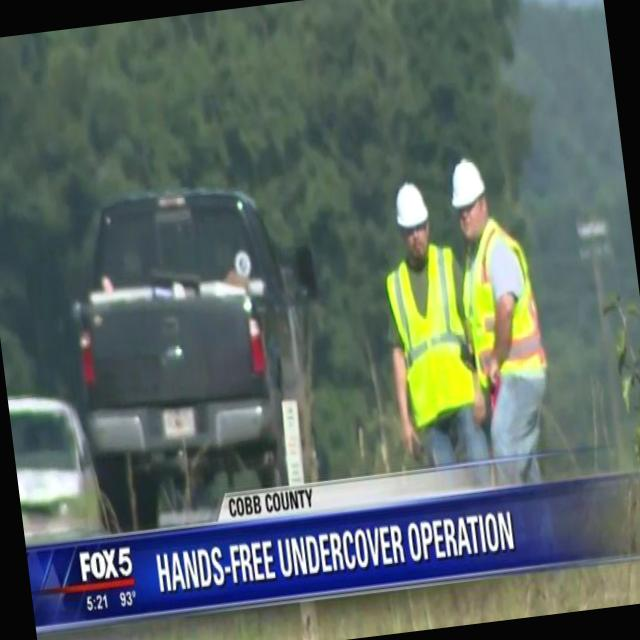helmet: (444, 156, 490, 220), (387, 174, 432, 234)
vest: (386, 242, 487, 444), (454, 232, 542, 398)
